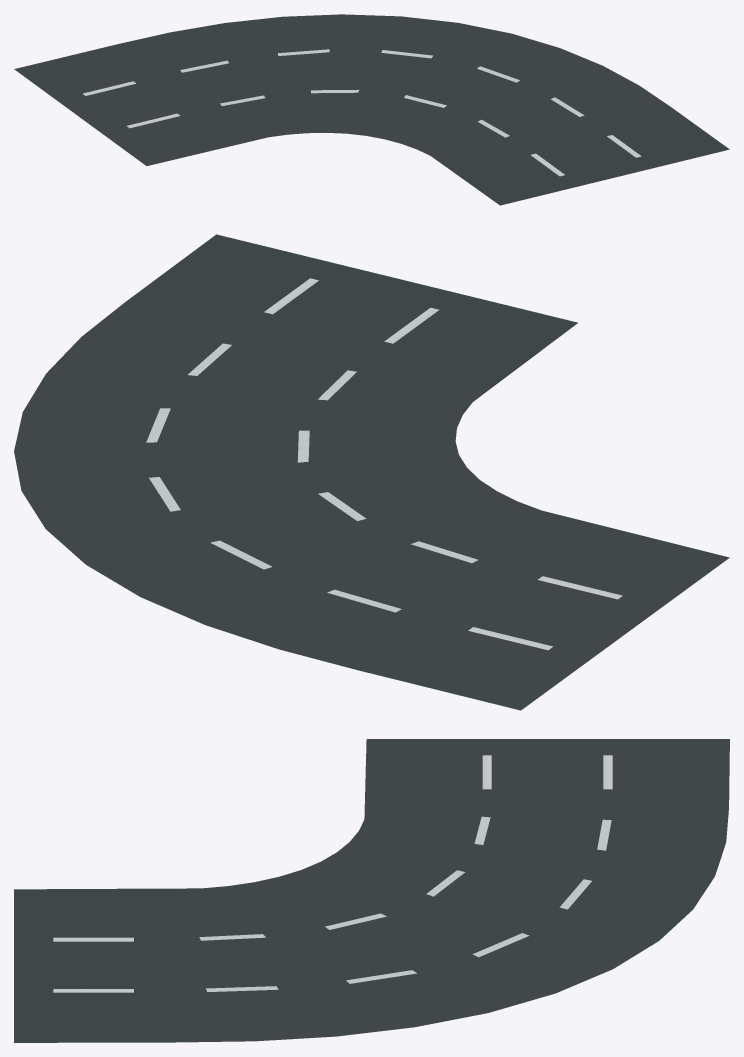
File: Road_2_308.fbx
The picture shows the model from 3 angles, top to bottom: view 1: azimuth 30°, elevation 25°; view 2: azimuth 150°, elevation 25°; view 3: azimuth 270°, elevation 25°; orthographic projection. The views are drawn at different scales.
Visible parts, largest first — view 1: Road_2_308; view 2: Road_2_308; view 3: Road_2_308.
Part boxes in pixels (x1,y1,x2,y2): Road_2_308: [14, 14, 729, 205]; Road_2_308: [14, 234, 729, 710]; Road_2_308: [14, 739, 729, 1042].
Size of the model in its own units: 2673 by 3.6 by 2661.
